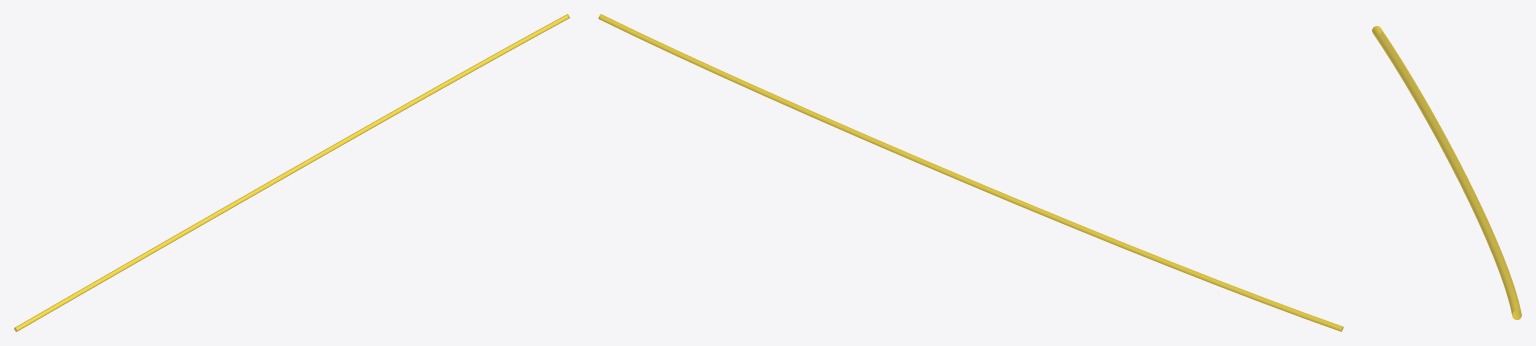
Rendered from Event_402970704_track_60.fbx.
3 views of the same model, side by side, from view 1: azimuth 30°, elevation 25°; view 2: azimuth 150°, elevation 25°; view 3: azimuth 270°, elevation 25° (orthographic). The views are drawn at different scales.
Parts seen in each view (by area): view 1: Model; view 2: Model; view 3: Model.
Part boxes in pixels (box(x1,y1,x2,y2)): Model: box(14, 14, 569, 331); Model: box(598, 14, 1343, 331); Model: box(1372, 26, 1521, 319).
Bounding box in the file's own units: 5.6 × 1.35 × 0.617.
